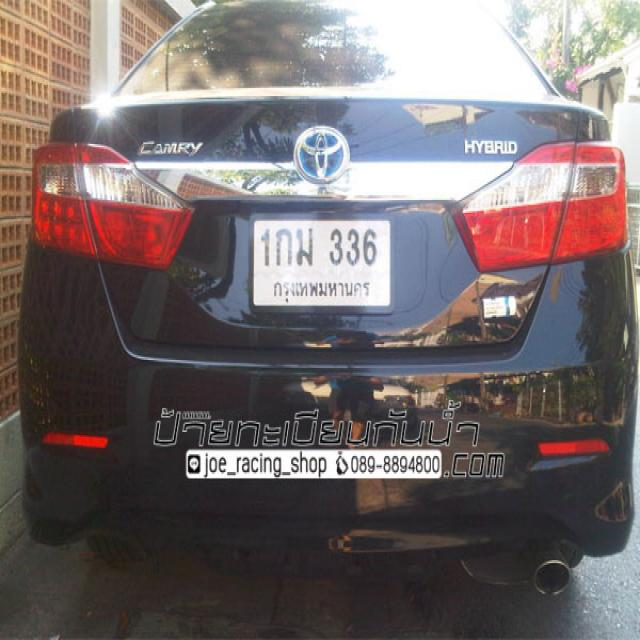license_plate: (248, 210, 396, 317)
